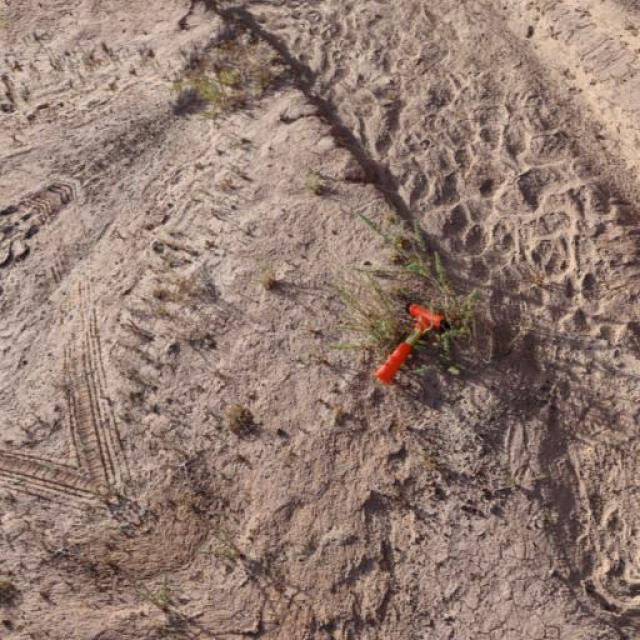mallet: (375, 302, 453, 386)
